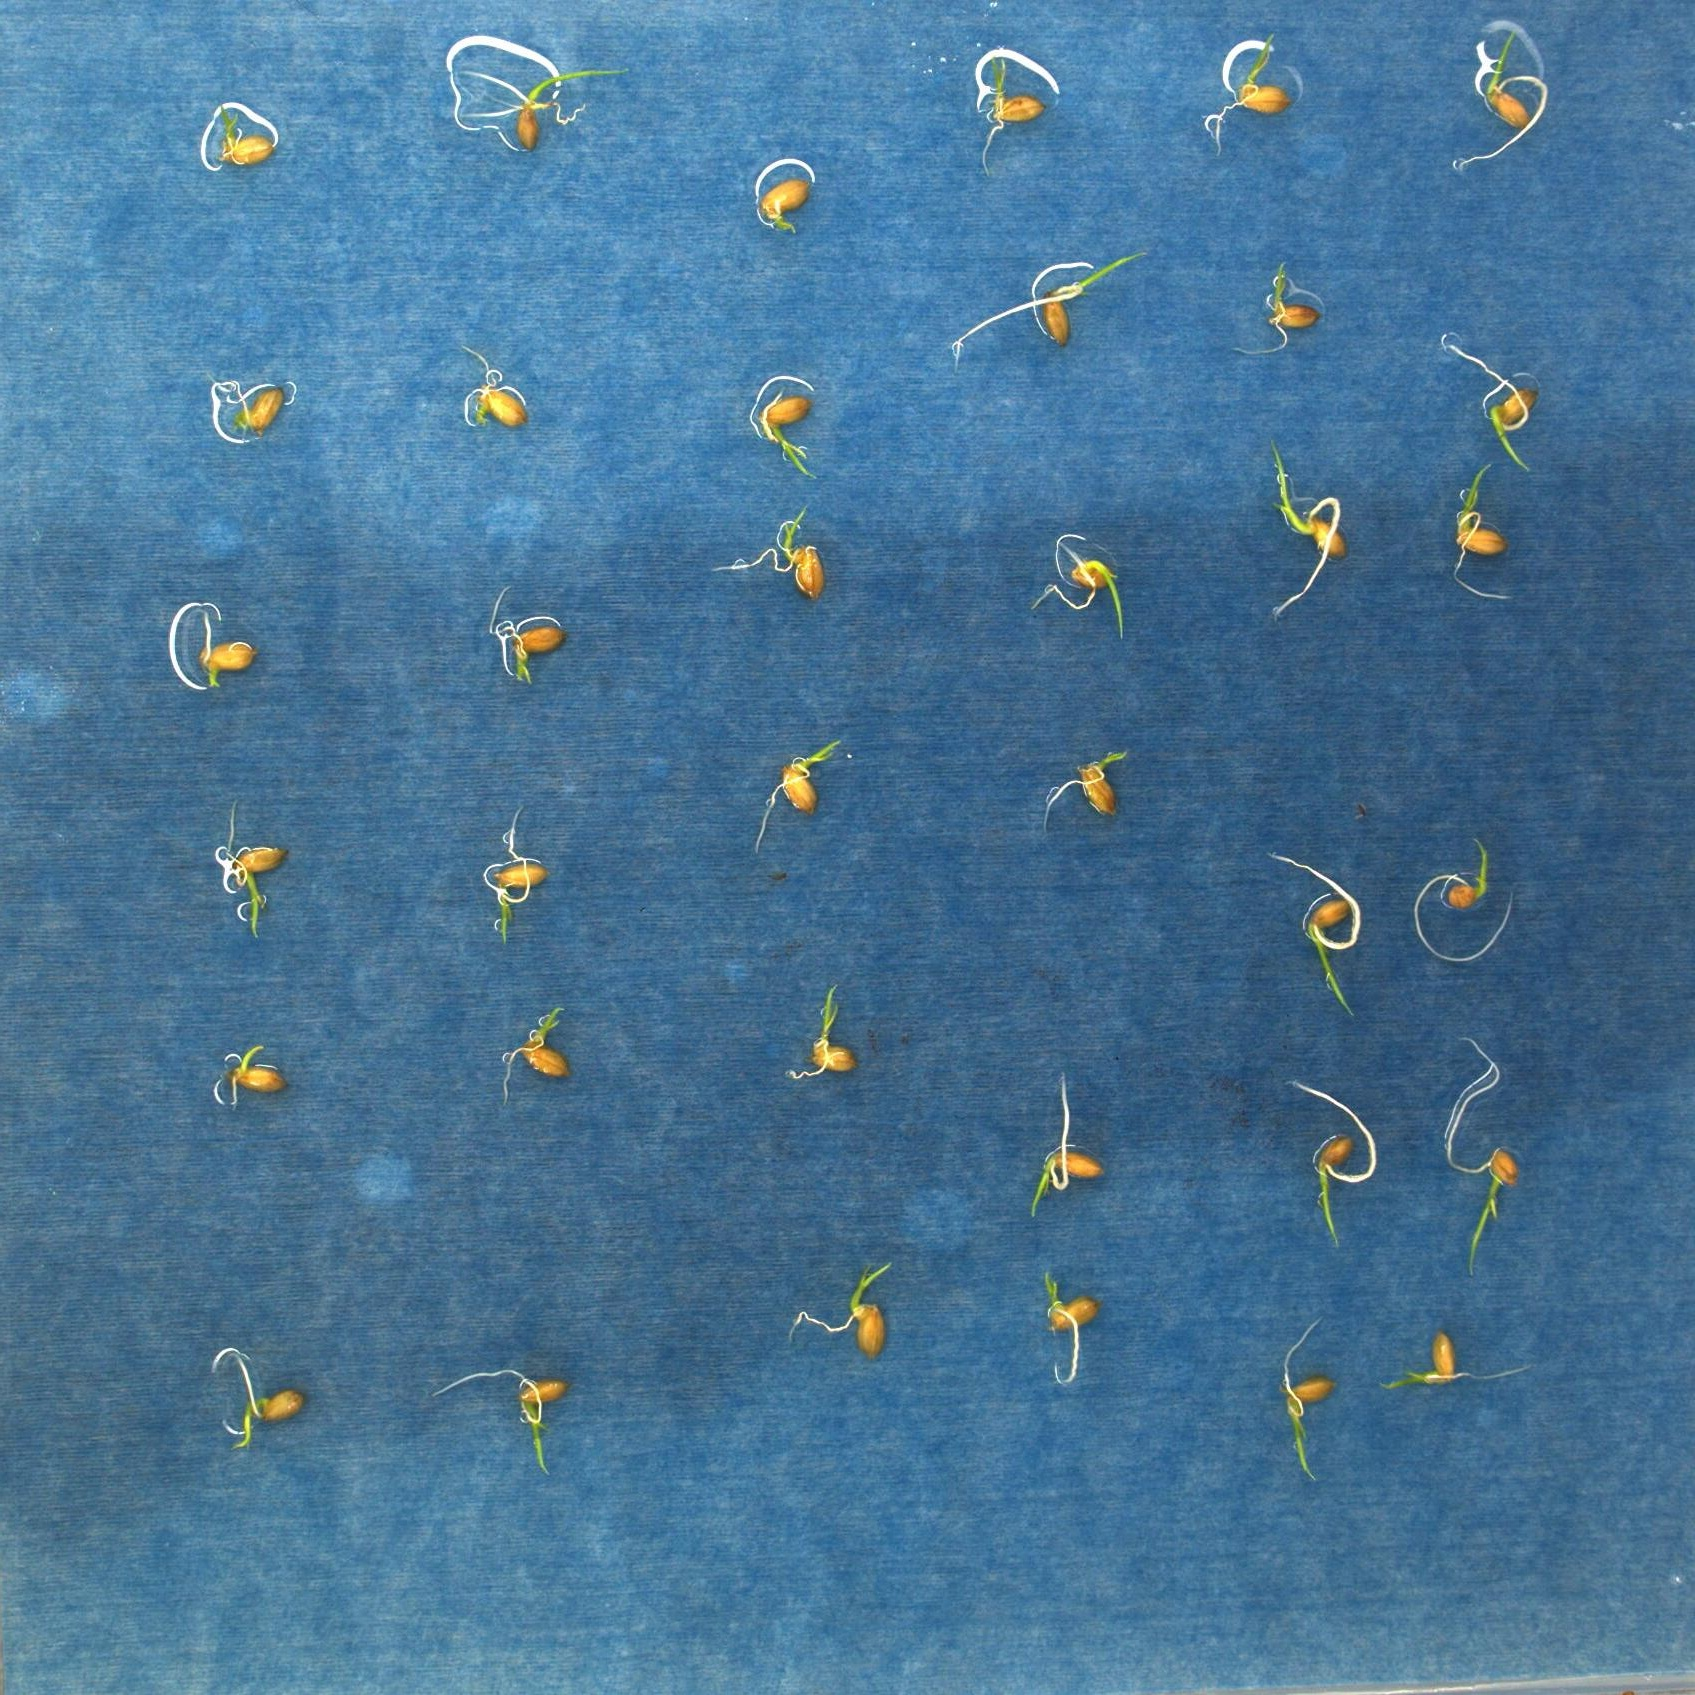not sprout: (189, 608, 256, 688)
sprout: (953, 251, 1156, 360), (1444, 1034, 1513, 1276), (1284, 1079, 1380, 1251), (459, 57, 636, 147), (1260, 438, 1347, 619), (1273, 854, 1364, 1020), (1451, 19, 1551, 168), (436, 1364, 565, 1478), (1412, 840, 1515, 962), (1451, 341, 1538, 472), (708, 508, 829, 601), (787, 1260, 897, 1360), (753, 736, 847, 849), (1031, 1073, 1101, 1212), (1038, 539, 1132, 643), (1209, 36, 1291, 151), (220, 799, 286, 941), (1232, 261, 1322, 360), (483, 809, 546, 947), (1375, 1333, 1535, 1388), (1451, 466, 1513, 601), (1284, 1316, 1333, 1484), (228, 1346, 304, 1450), (979, 51, 1045, 169), (1037, 750, 1128, 834), (1035, 1268, 1097, 1385), (492, 584, 563, 683), (785, 984, 855, 1080), (456, 335, 528, 428), (501, 1007, 573, 1099), (761, 391, 824, 484), (213, 371, 286, 436), (217, 1042, 289, 1104), (210, 95, 272, 165), (748, 172, 820, 233)
